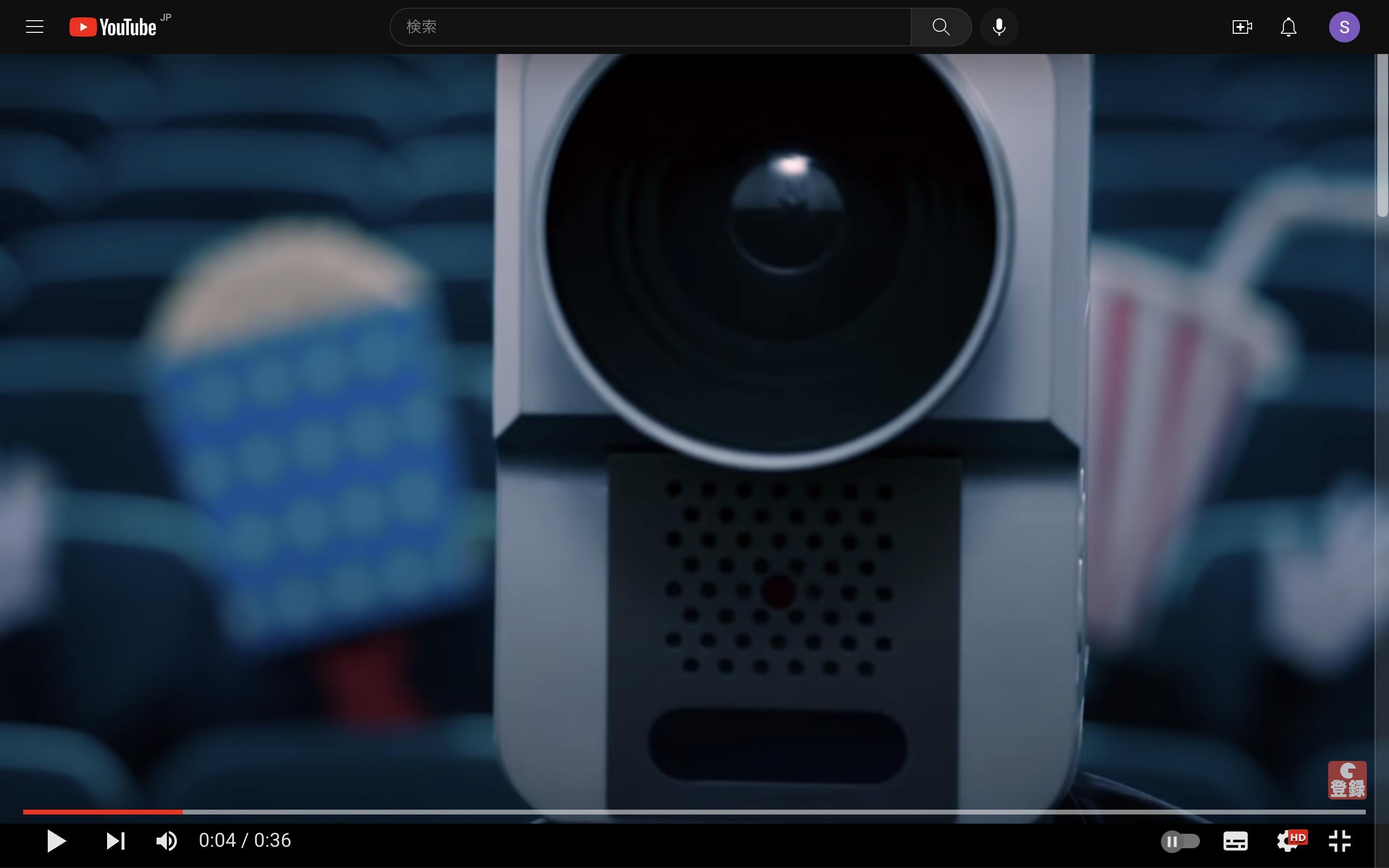no more kid: (489, 48, 1100, 816)
